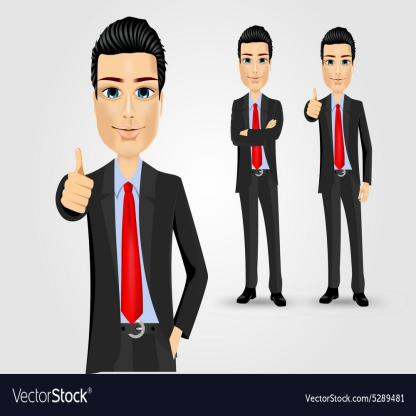Thumbs-Up: (44, 140, 110, 223), (298, 86, 330, 126)
